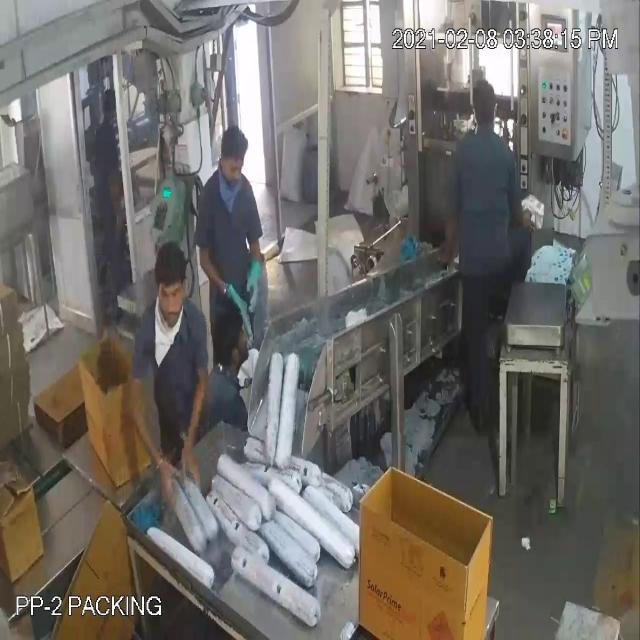No_Gloves: (24, 71, 258, 444)
